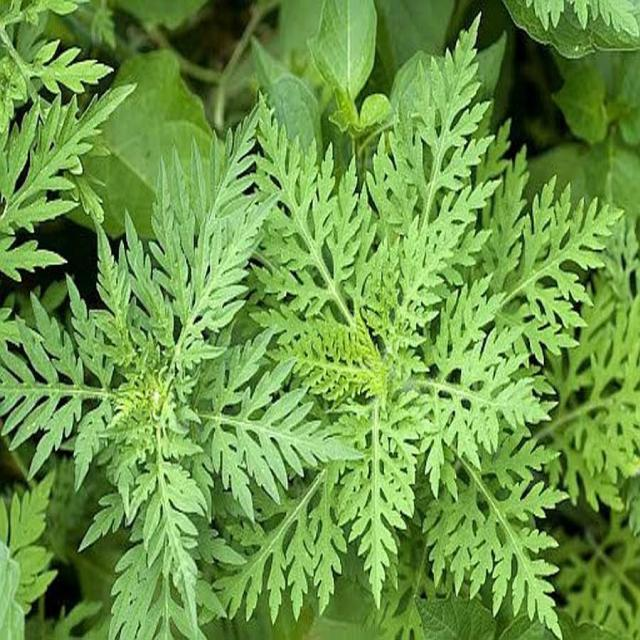ambrosia: (311, 156, 570, 571), (32, 204, 284, 575)
